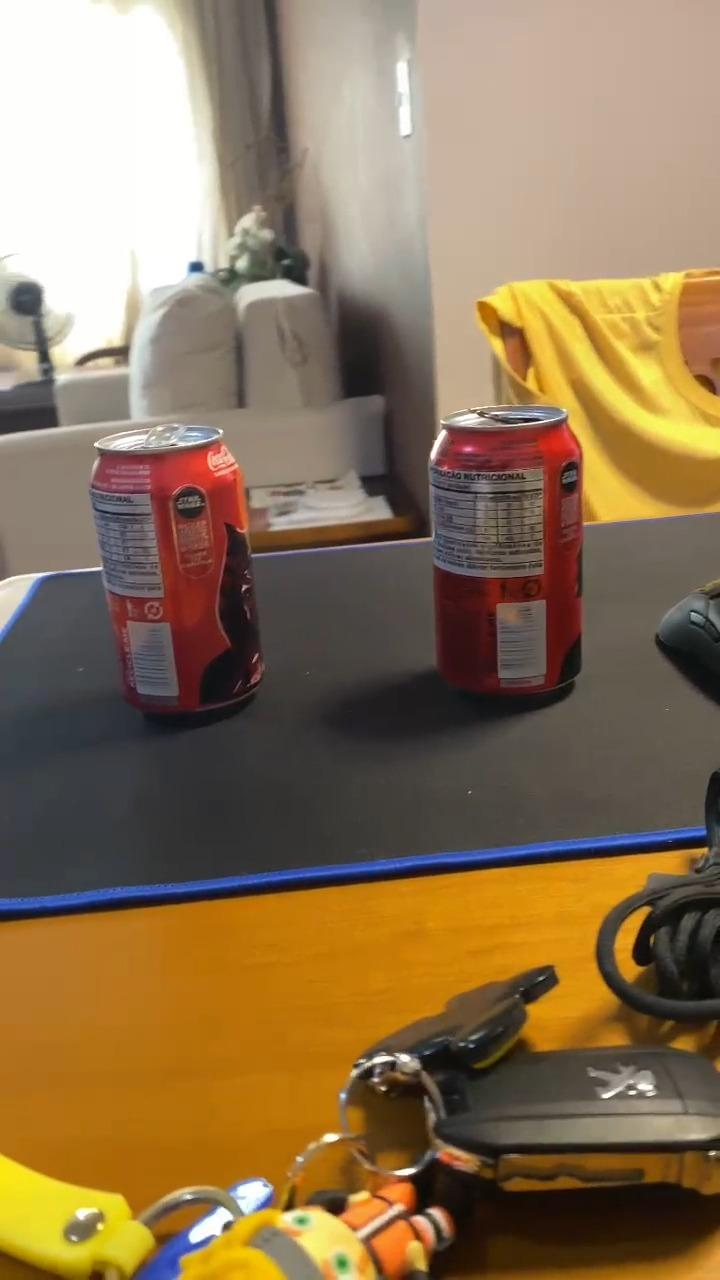coke: (84, 423, 261, 716), (428, 402, 584, 691)
